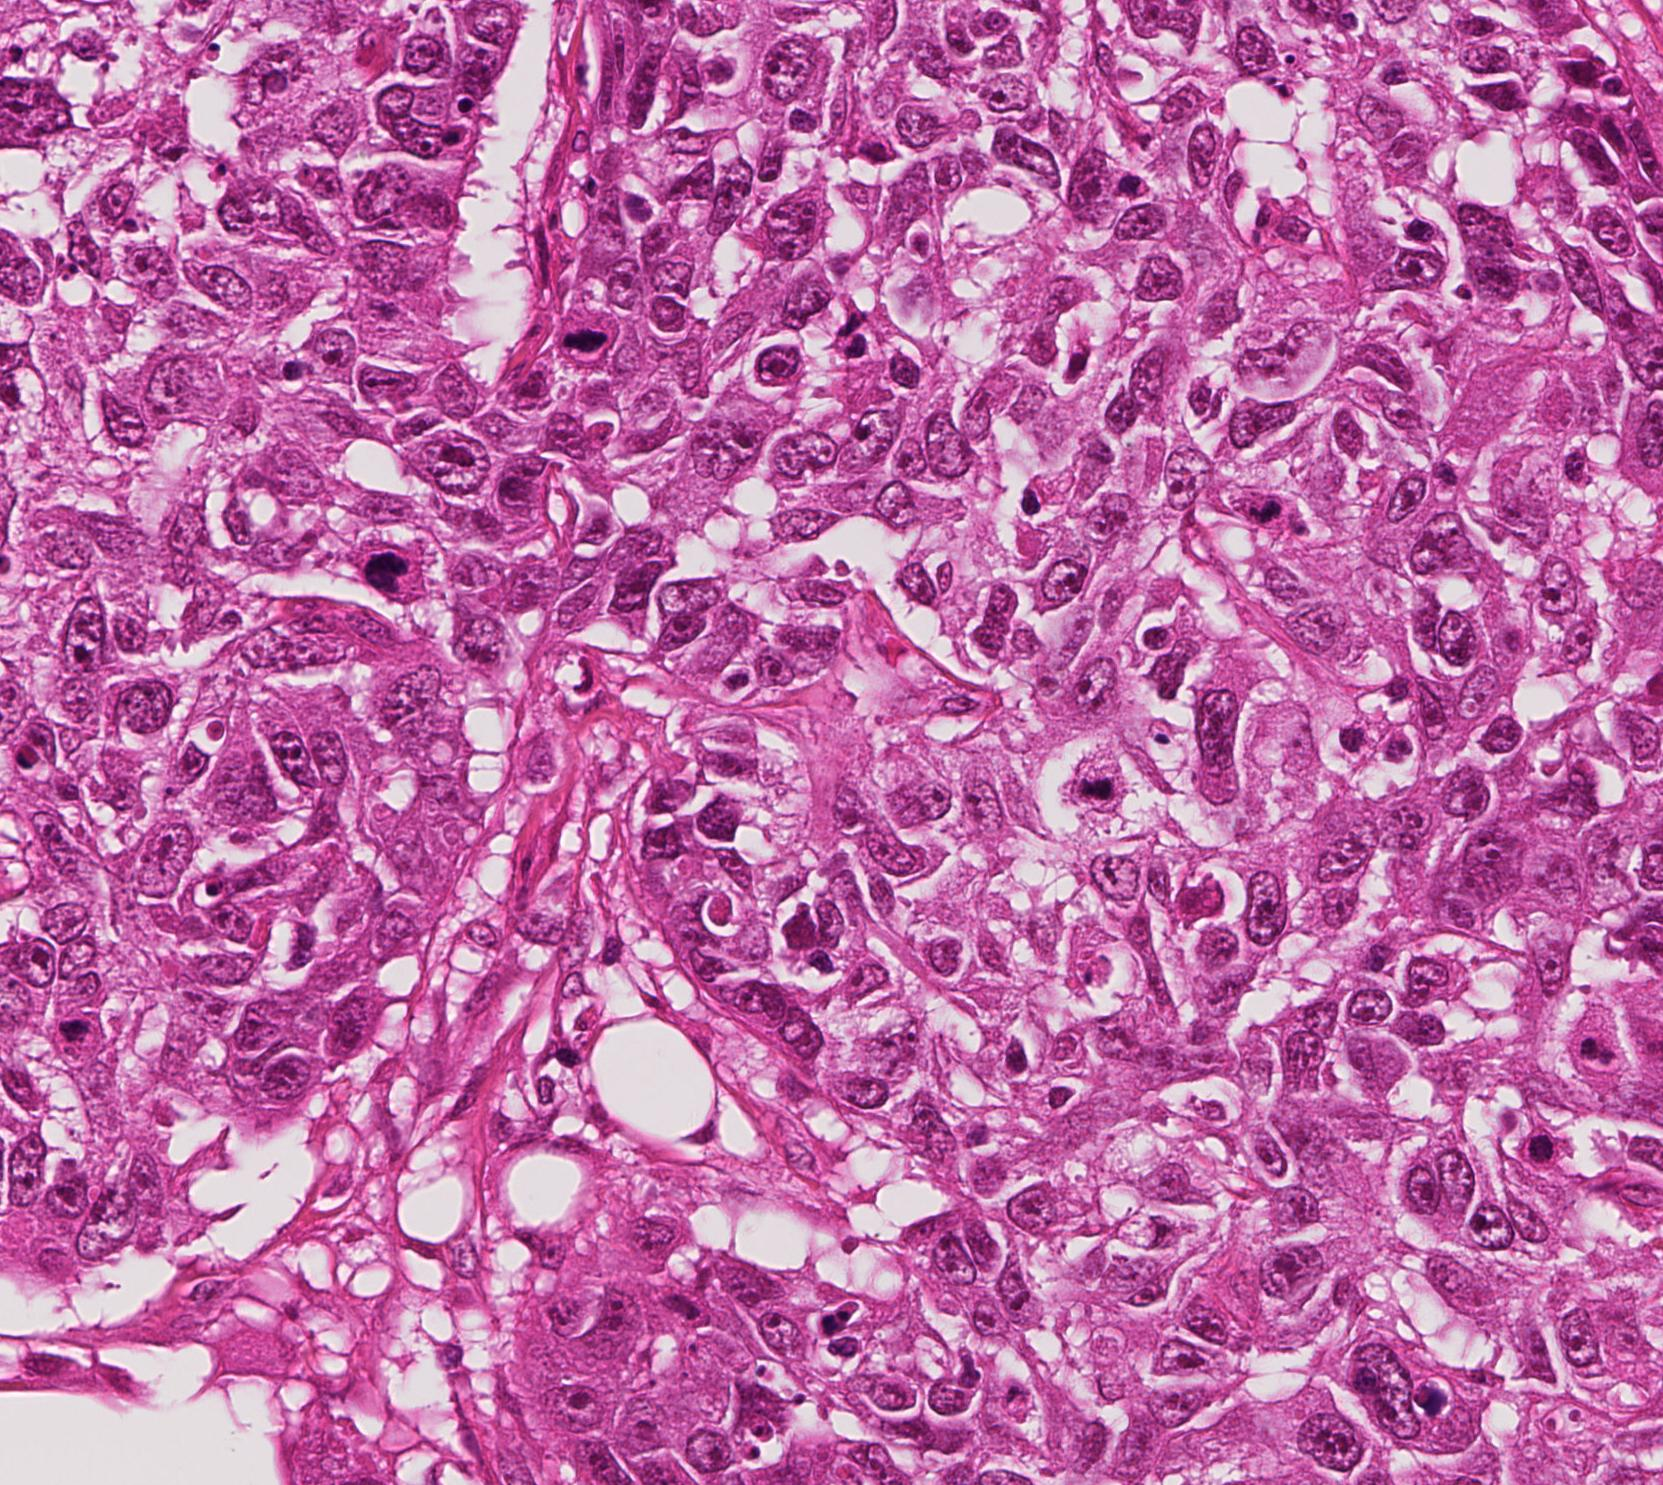mitosis: (553, 304, 614, 364), (1077, 754, 1137, 814), (360, 538, 420, 596), (1231, 482, 1292, 540)
